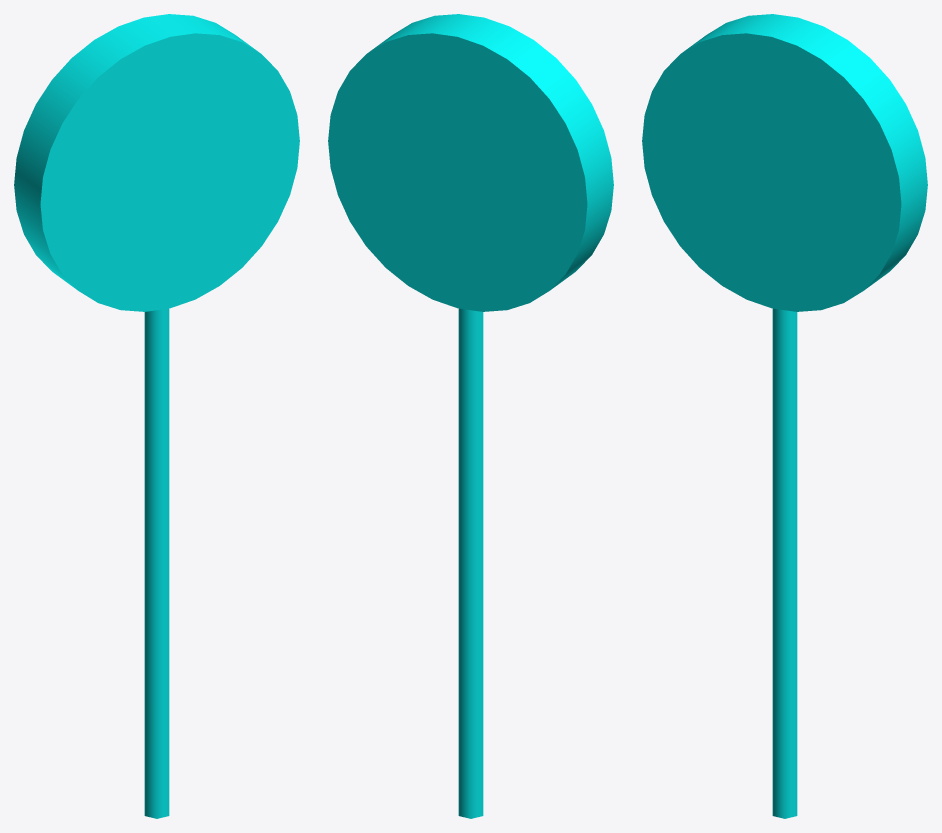
The model's file is Piruleta.fbx.
3 views of the same model, side by side, from view 1: azimuth 30°, elevation 25°; view 2: azimuth 150°, elevation 25°; view 3: azimuth 330°, elevation 25° (orthographic).
Parts seen in each view (by area): view 1: Piruleta; view 2: Piruleta; view 3: Piruleta.
Boxes of the visible parts, x1,y1,x2,y2 form: Piruleta: [14, 14, 299, 818]; Piruleta: [328, 14, 613, 818]; Piruleta: [642, 14, 927, 818].
Size of the model in its own units: 336 by 971 by 59.17.
